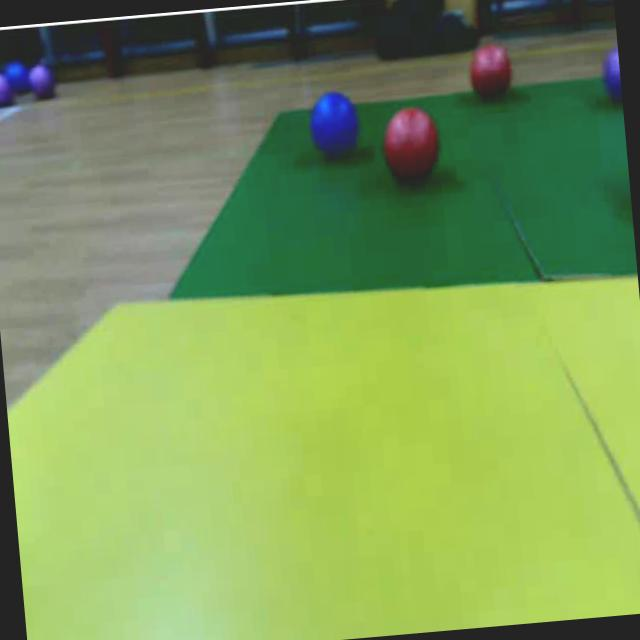blue_ball: (304, 88, 365, 166), (8, 62, 29, 94)
purple_ball: (596, 38, 622, 104), (26, 62, 56, 99), (0, 73, 11, 104)
red_ball: (378, 105, 442, 186), (464, 39, 518, 109)
